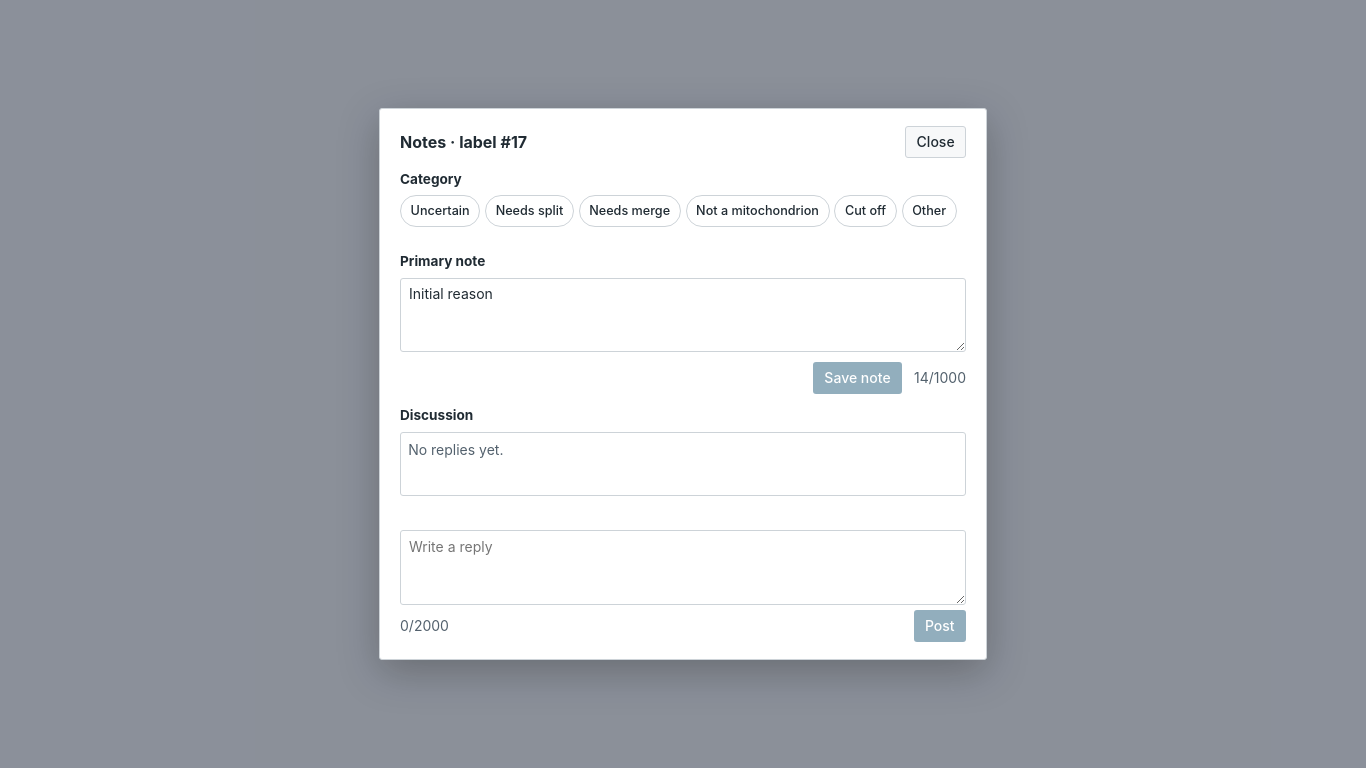
HardCaseNotesModal › shares one editable note and discussion flow
Expected: the text "No replies yet." is shown, x1=408 y1=441 x2=504 y2=458
Replace the text in the text box named "Primary note" with "Refined reason" at (683, 315), box x1=400 y1=278 x2=966 y2=352
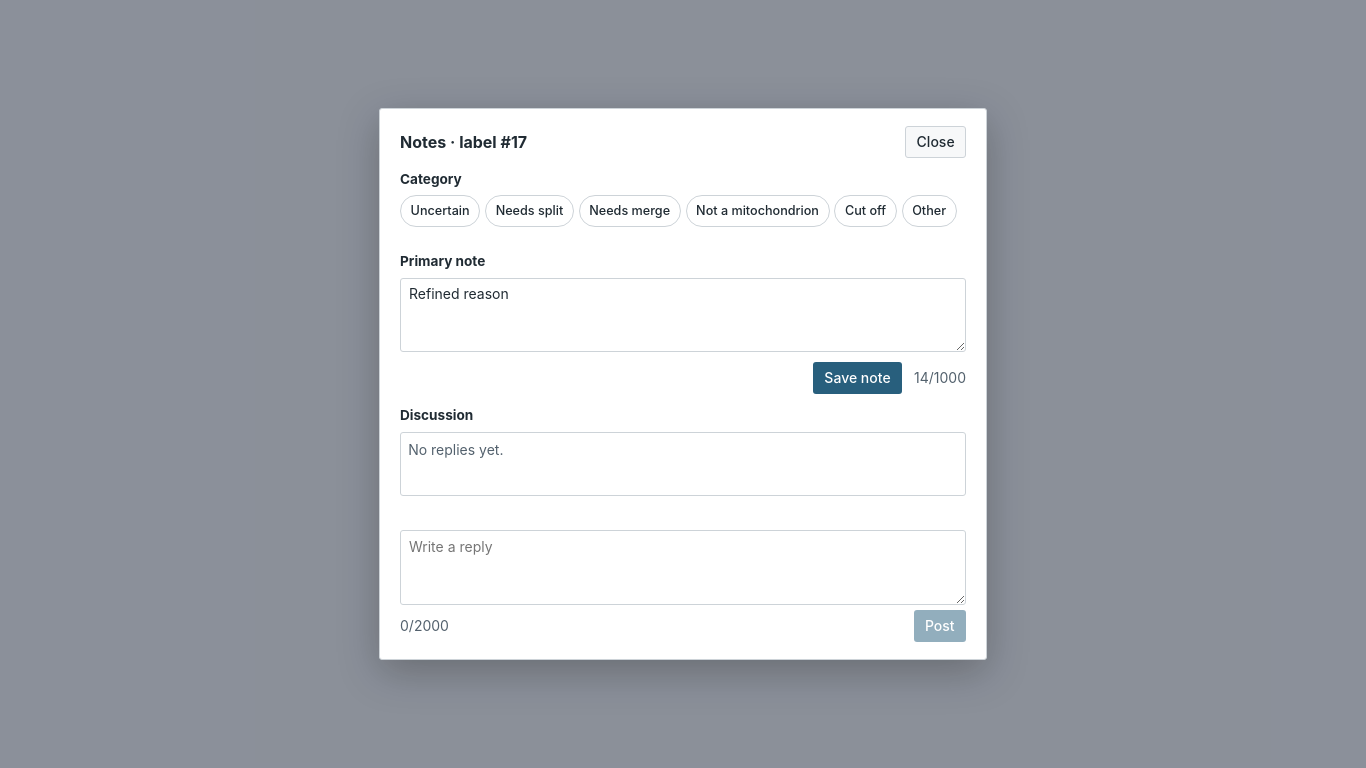
Click the button "Save note" at (858, 378), box x1=813 y1=362 x2=902 y2=394
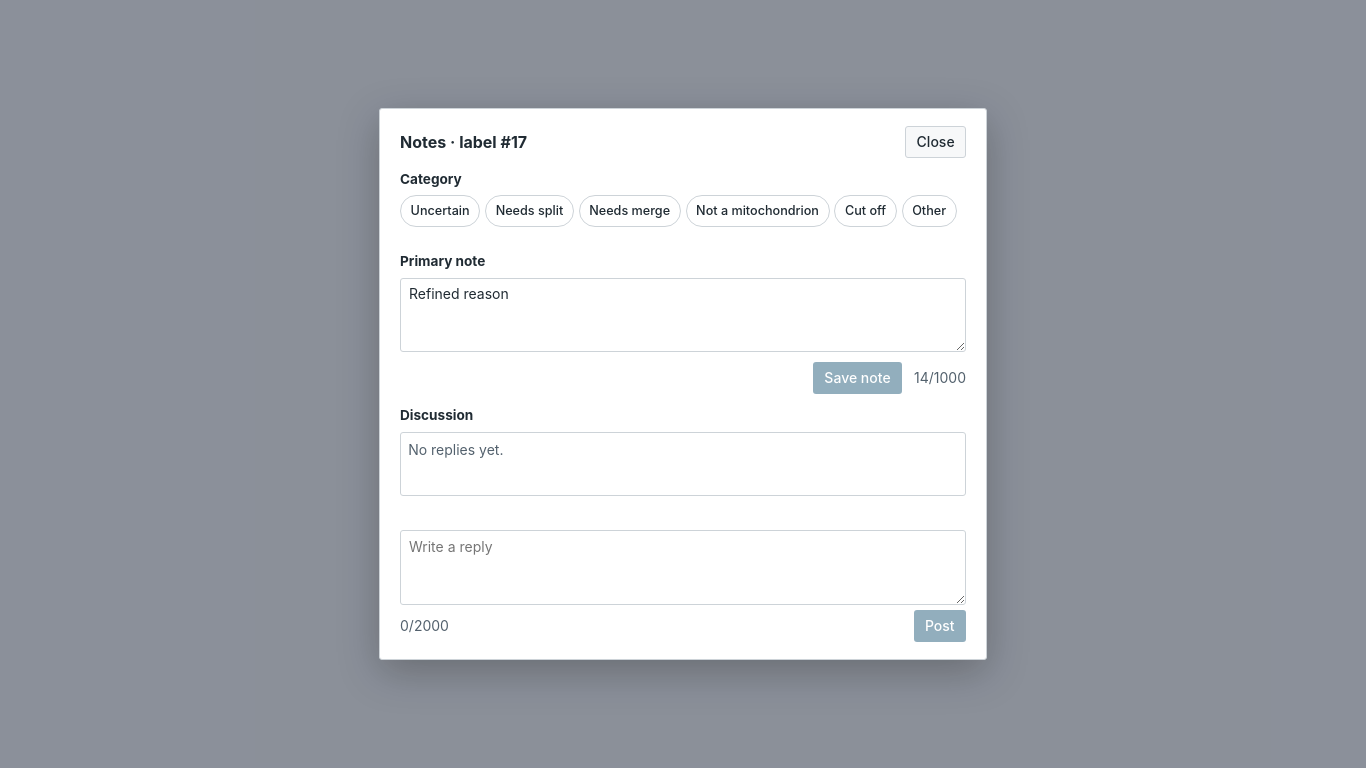
Type "  Please inspect this edge.  " into the text box named "Discussion reply" at (683, 568), box x1=400 y1=530 x2=966 y2=605
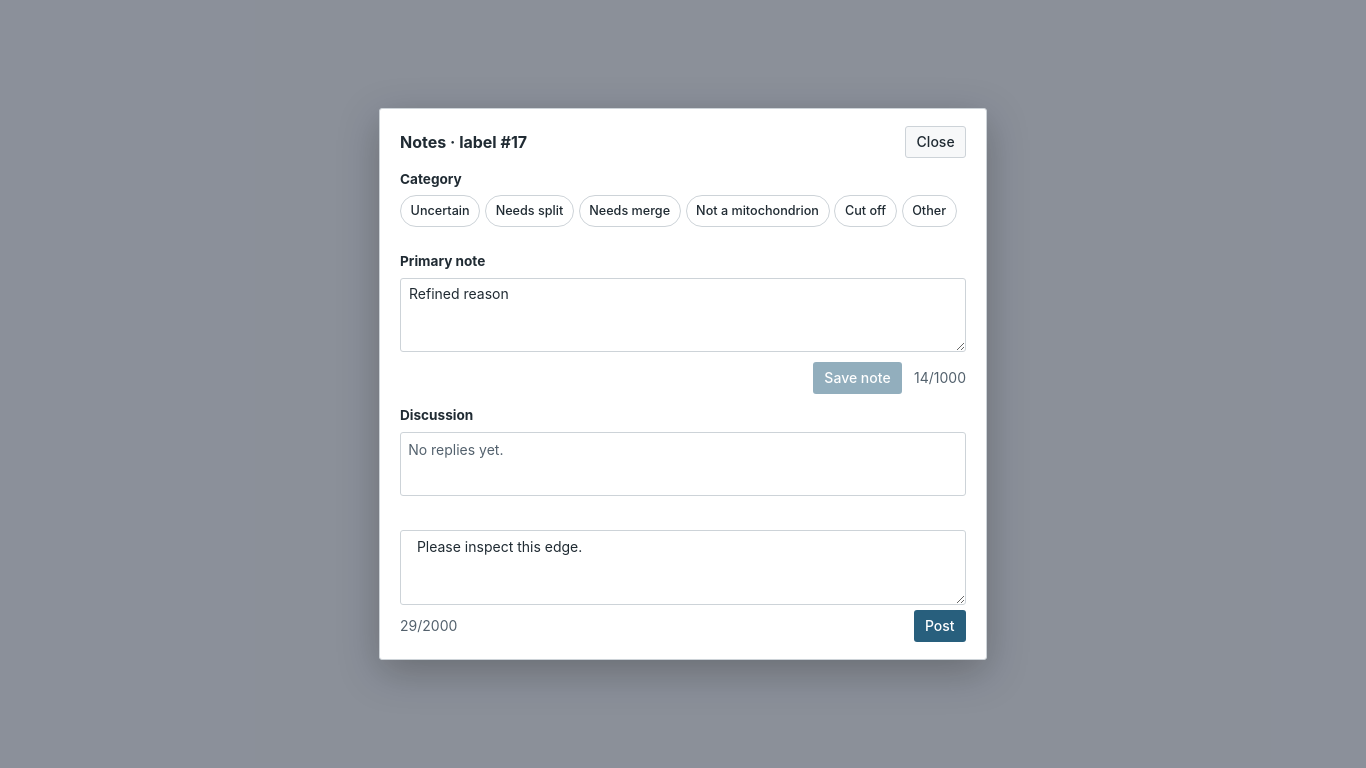
Click the button "Post" at (940, 626), box x1=914 y1=610 x2=966 y2=642
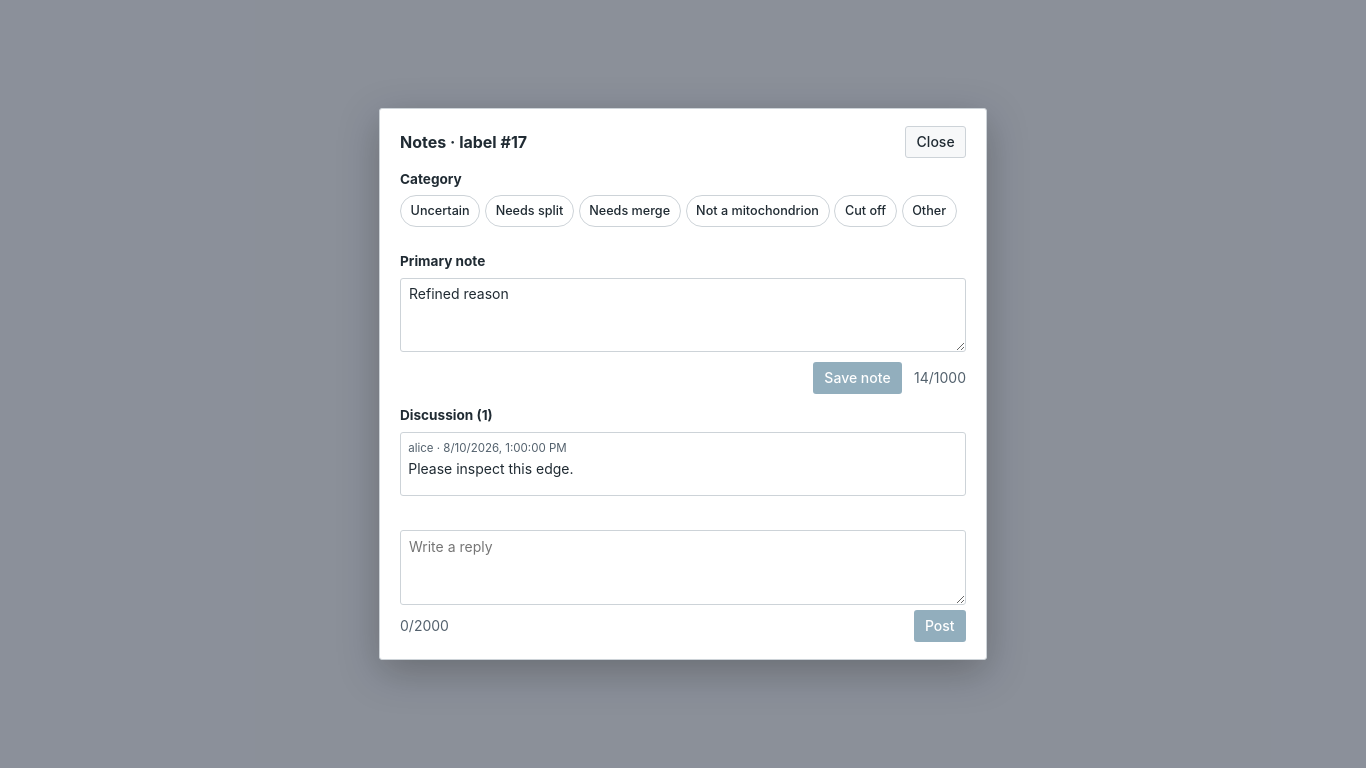
Result: the text "Please inspect this edge." is shown at x1=408 y1=460 x2=574 y2=477
